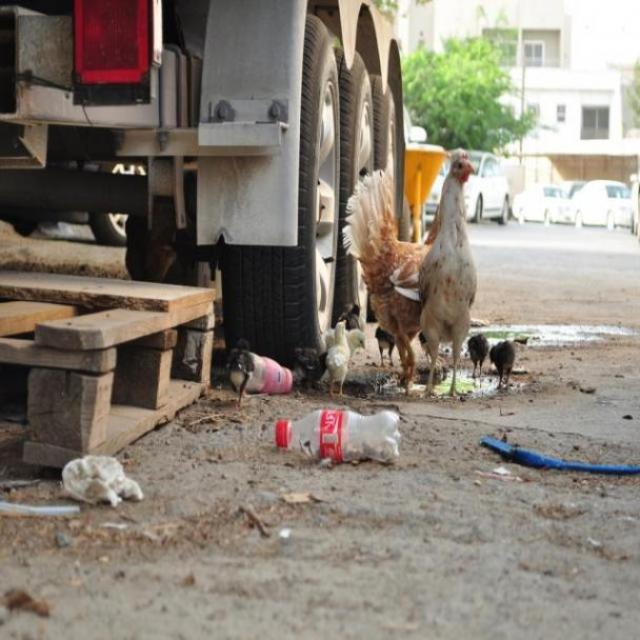Chicken: (338, 171, 441, 398)
